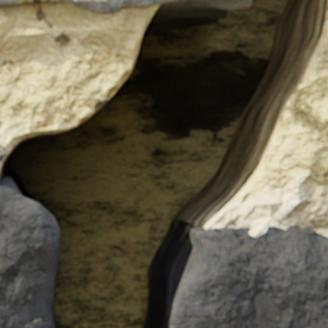brick: (0, 0, 175, 14)
broken_brick: (169, 225, 327, 327), (0, 182, 59, 327)
crack: (0, 0, 327, 327)
